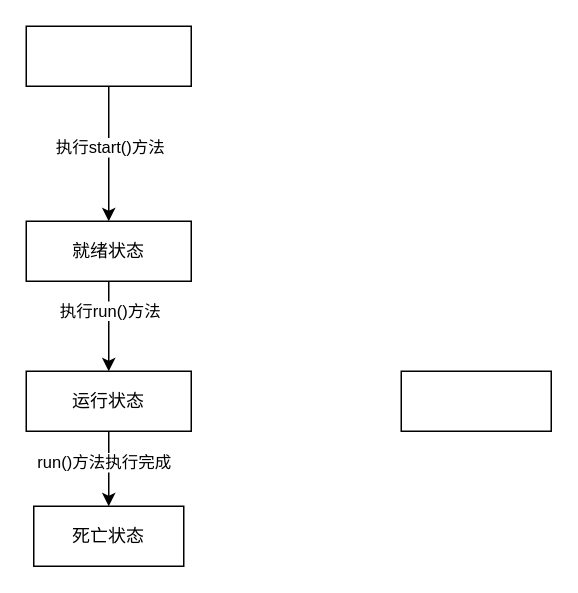
Some shapes in this 578 by 593 pixel diagram are drawn without their labels. The shapes that lost their labels are listed below. From the top down, each one's centre as x and y in pixels, then its label:
At point 108,55: "新建状态".
At point 475,400: "阻塞状态".
